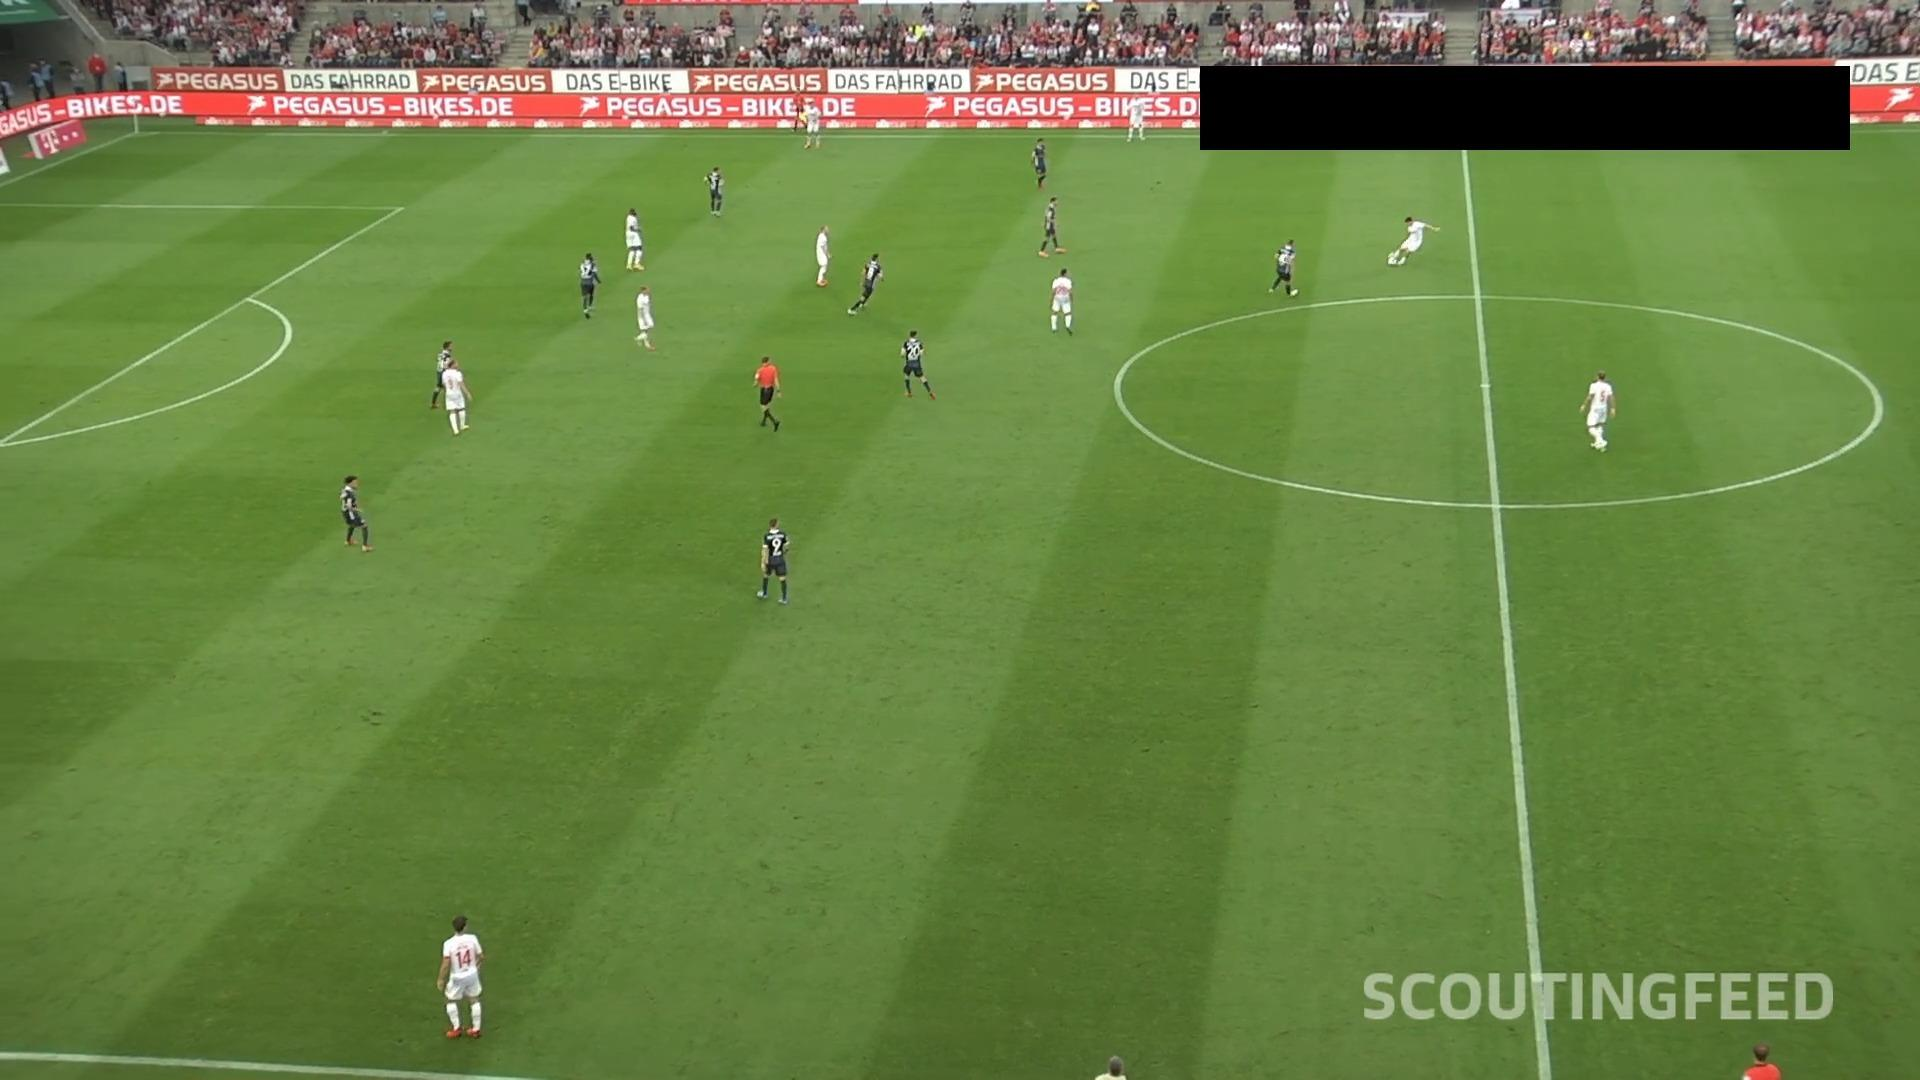ball: (1387, 255, 1399, 266)
